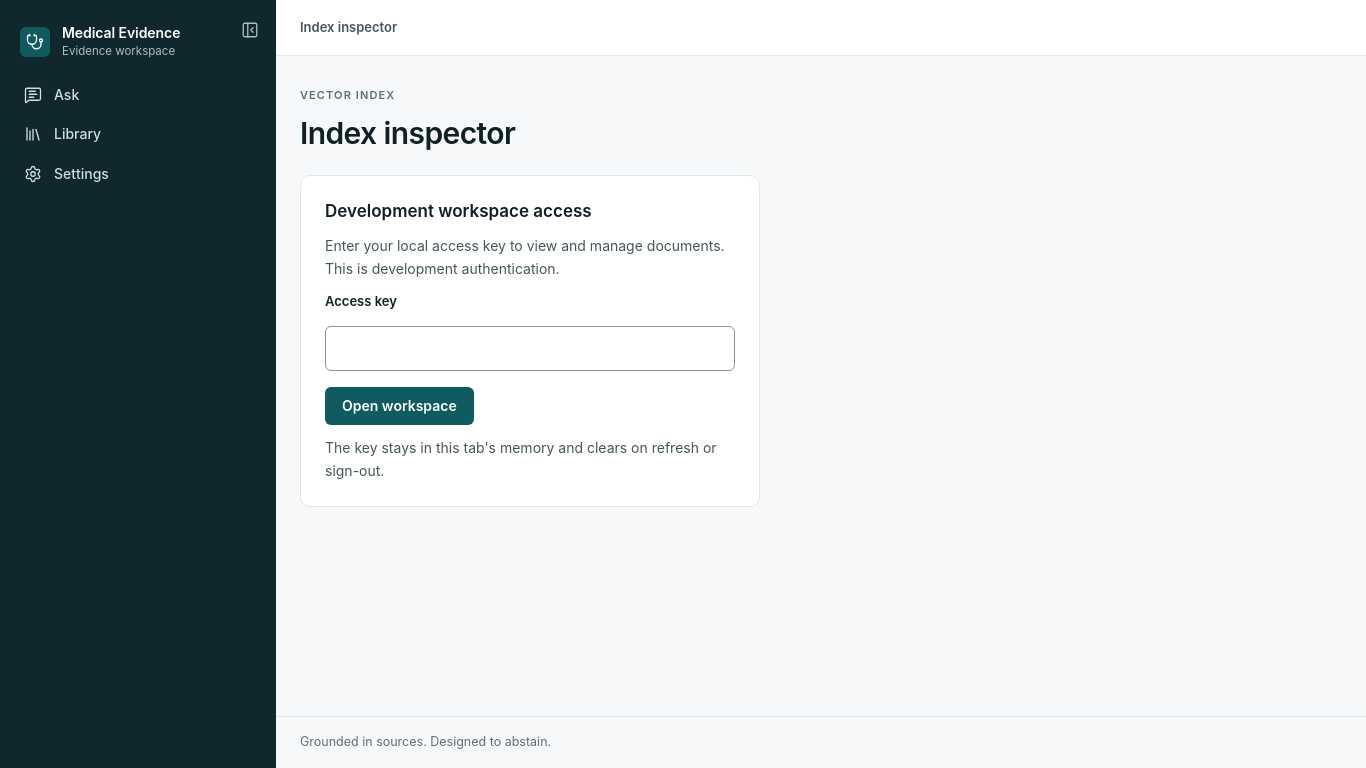
Test case: M4 index inspector › shows the collection, vector name, dimension, metric and reconciliation counts
This screenshot has width=1366, height=768.
Type "local-test-key" into the password field labelled "Access key" at (530,349), box top-left (325, 326), bottom-right (735, 371)
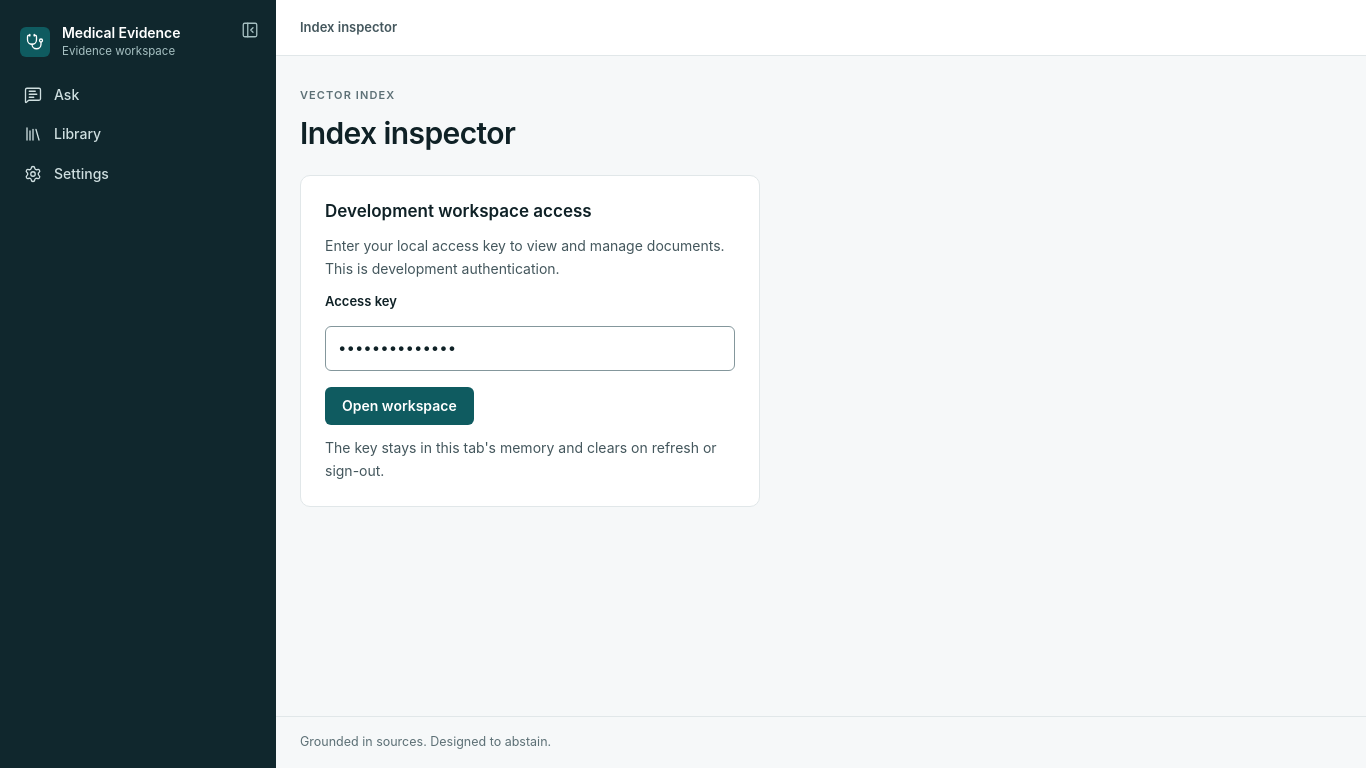
Click the button "Open workspace" at (399,406), box top-left (325, 387), bottom-right (474, 425)
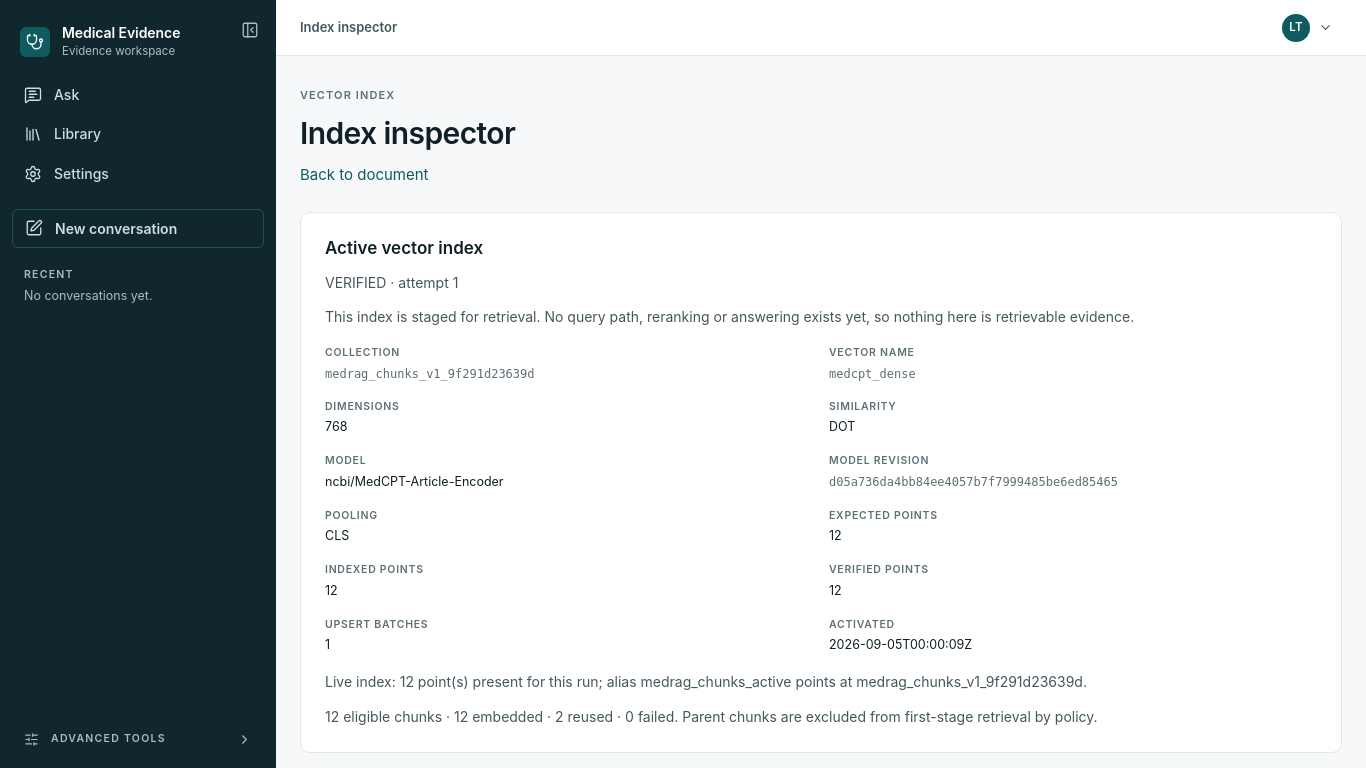
expect the button named "Account and workspace" is shown: met, box top-left (1277, 8), bottom-right (1342, 46)
expect the heading "Active vector index" is shown: met, box top-left (325, 238), bottom-right (483, 258)
expect the text "medrag_chunks_v1_9f291d23639d" is shown: met, box top-left (325, 367), bottom-right (534, 381)
